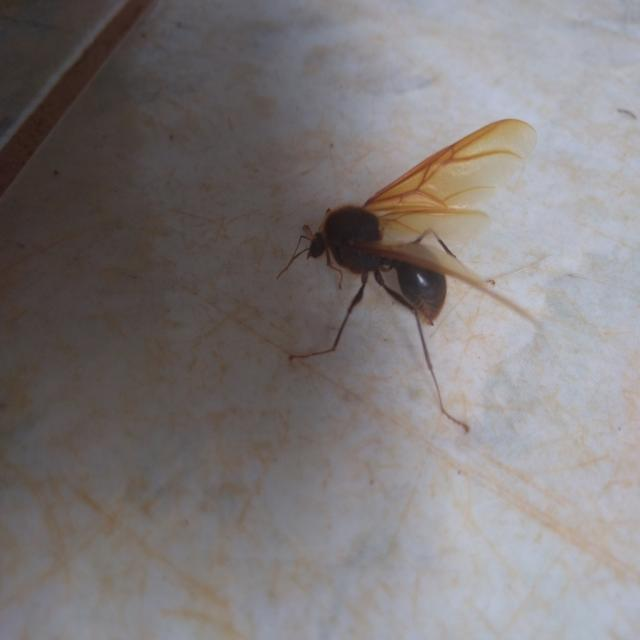Alive-Male-Alate: (275, 119, 544, 432)
